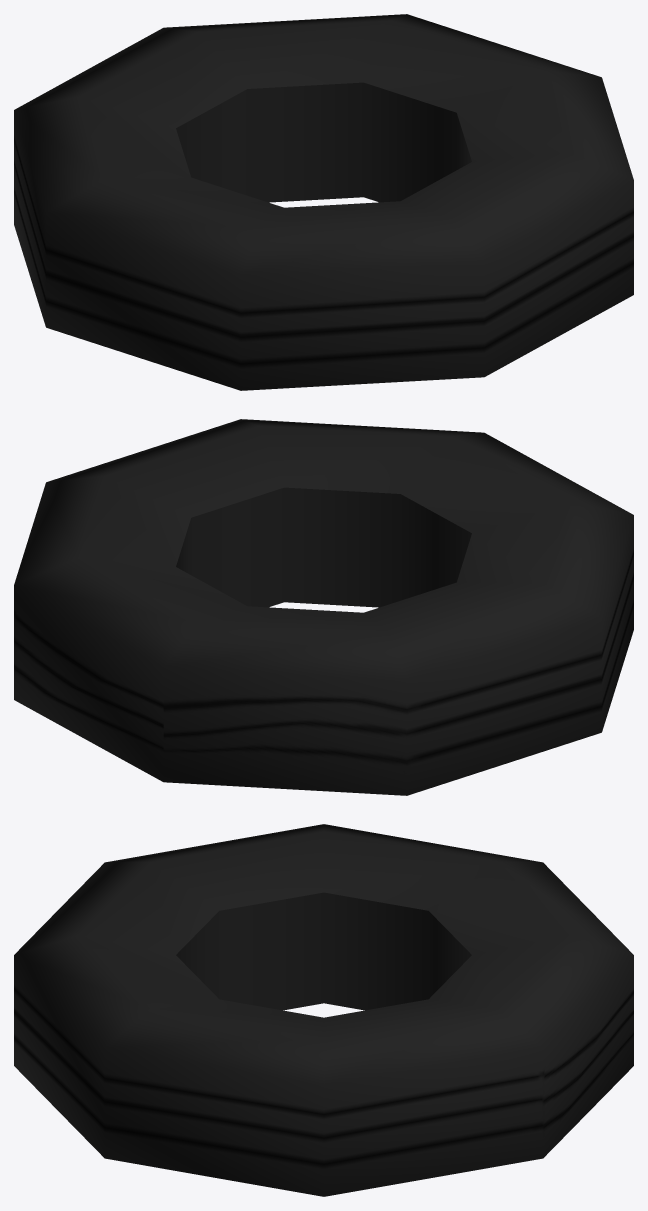
The model's file is Trash_Tire.fbx.
3 views of the same model, one above another, from view 1: azimuth 30°, elevation 25°; view 2: azimuth 150°, elevation 25°; view 3: azimuth 270°, elevation 25° (orthographic). The views are drawn at different scales.
Parts seen in each view (by area): view 1: Tire01; view 2: Tire01; view 3: Tire01.
Part boxes in pixels (box(x1,y1,x2,y2)): Tire01: box(14, 14, 633, 390); Tire01: box(14, 419, 633, 795); Tire01: box(14, 824, 633, 1196).
Size of the model in its own units: 16.44 by 4.39 by 16.44.
